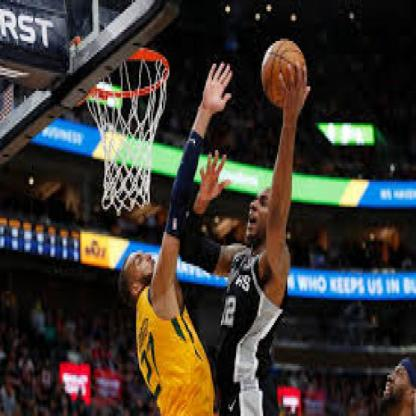basketball: (260, 41, 310, 109)
rim: (77, 42, 172, 100)
